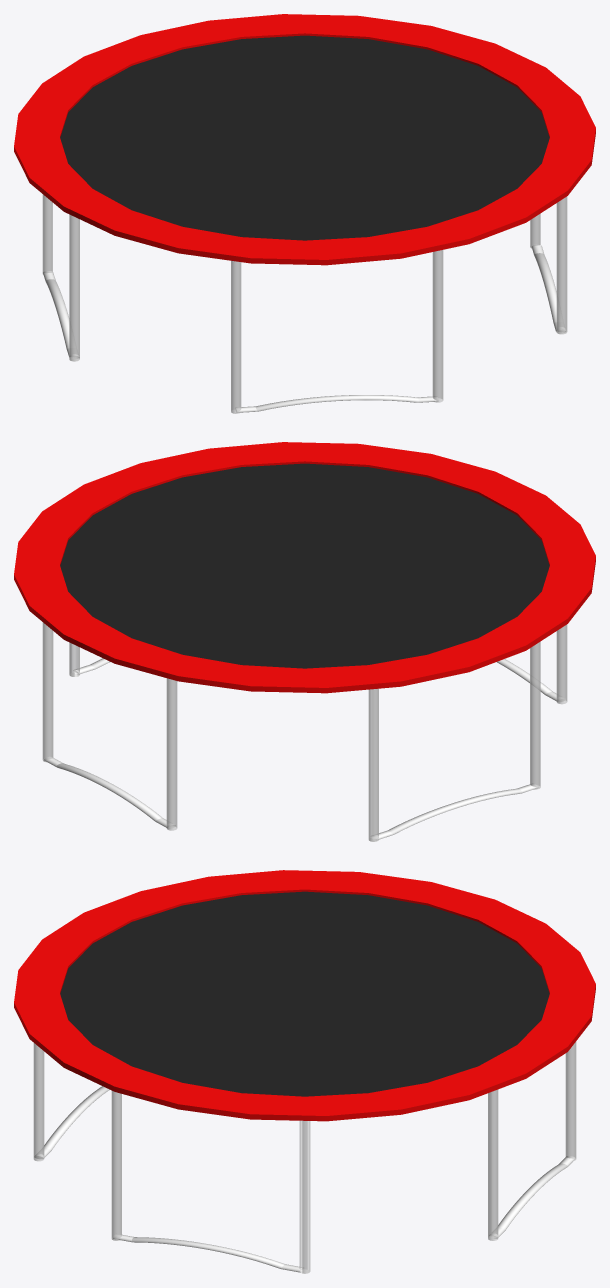
File: trampoline.obj
3 views of the same model, one above another, from view 1: azimuth 30°, elevation 25°; view 2: azimuth 150°, elevation 25°; view 3: azimuth 270°, elevation 25° (orthographic).
Visible parts, largest first — view 1: Layer0_001, Group_001; view 2: Layer0_001, Group_001; view 3: Layer0_001, Group_001.
Part boxes in pixels (<box>): Layer0_001: <box>14,14,595,265</box>; Group_001: <box>42,194,567,413</box>; Layer0_001: <box>14,442,595,693</box>; Group_001: <box>42,622,567,841</box>; Layer0_001: <box>14,870,595,1121</box>; Group_001: <box>33,1041,576,1273</box>.
Size of the model in its own units: 98.15 by 30.91 by 98.15.
